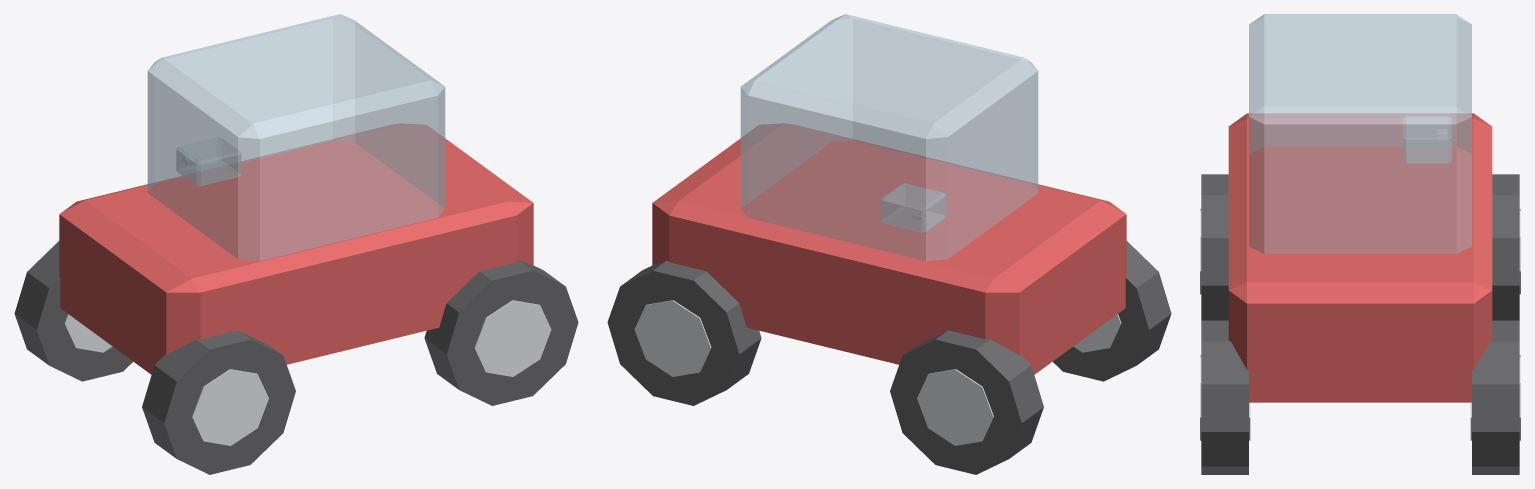
Rendered from b07_compact_track_loader_grapple.glb.
3 views of the same model, side by side, from view 1: azimuth 30°, elevation 25°; view 2: azimuth 150°, elevation 25°; view 3: azimuth 270°, elevation 25° (orthographic). The views are drawn at different scales.
Parts seen in each view (by area): view 1: b07_compact_track_loader_grapple; view 2: b07_compact_track_loader_grapple; view 3: b07_compact_track_loader_grapple.
Part boxes in pixels (x1=…): b07_compact_track_loader_grapple: x1=14, y1=14, x2=578, y2=474; b07_compact_track_loader_grapple: x1=607, y1=14, x2=1171, y2=474; b07_compact_track_loader_grapple: x1=1200, y1=14, x2=1520, y2=474.
Size of the model in its own units: 3.02 by 2.17 by 1.9.
